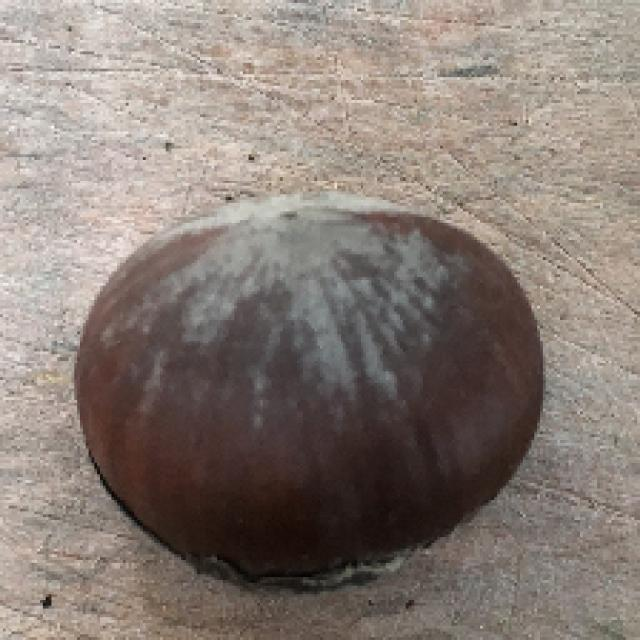DamagedHazelnut: (74, 189, 549, 594)
